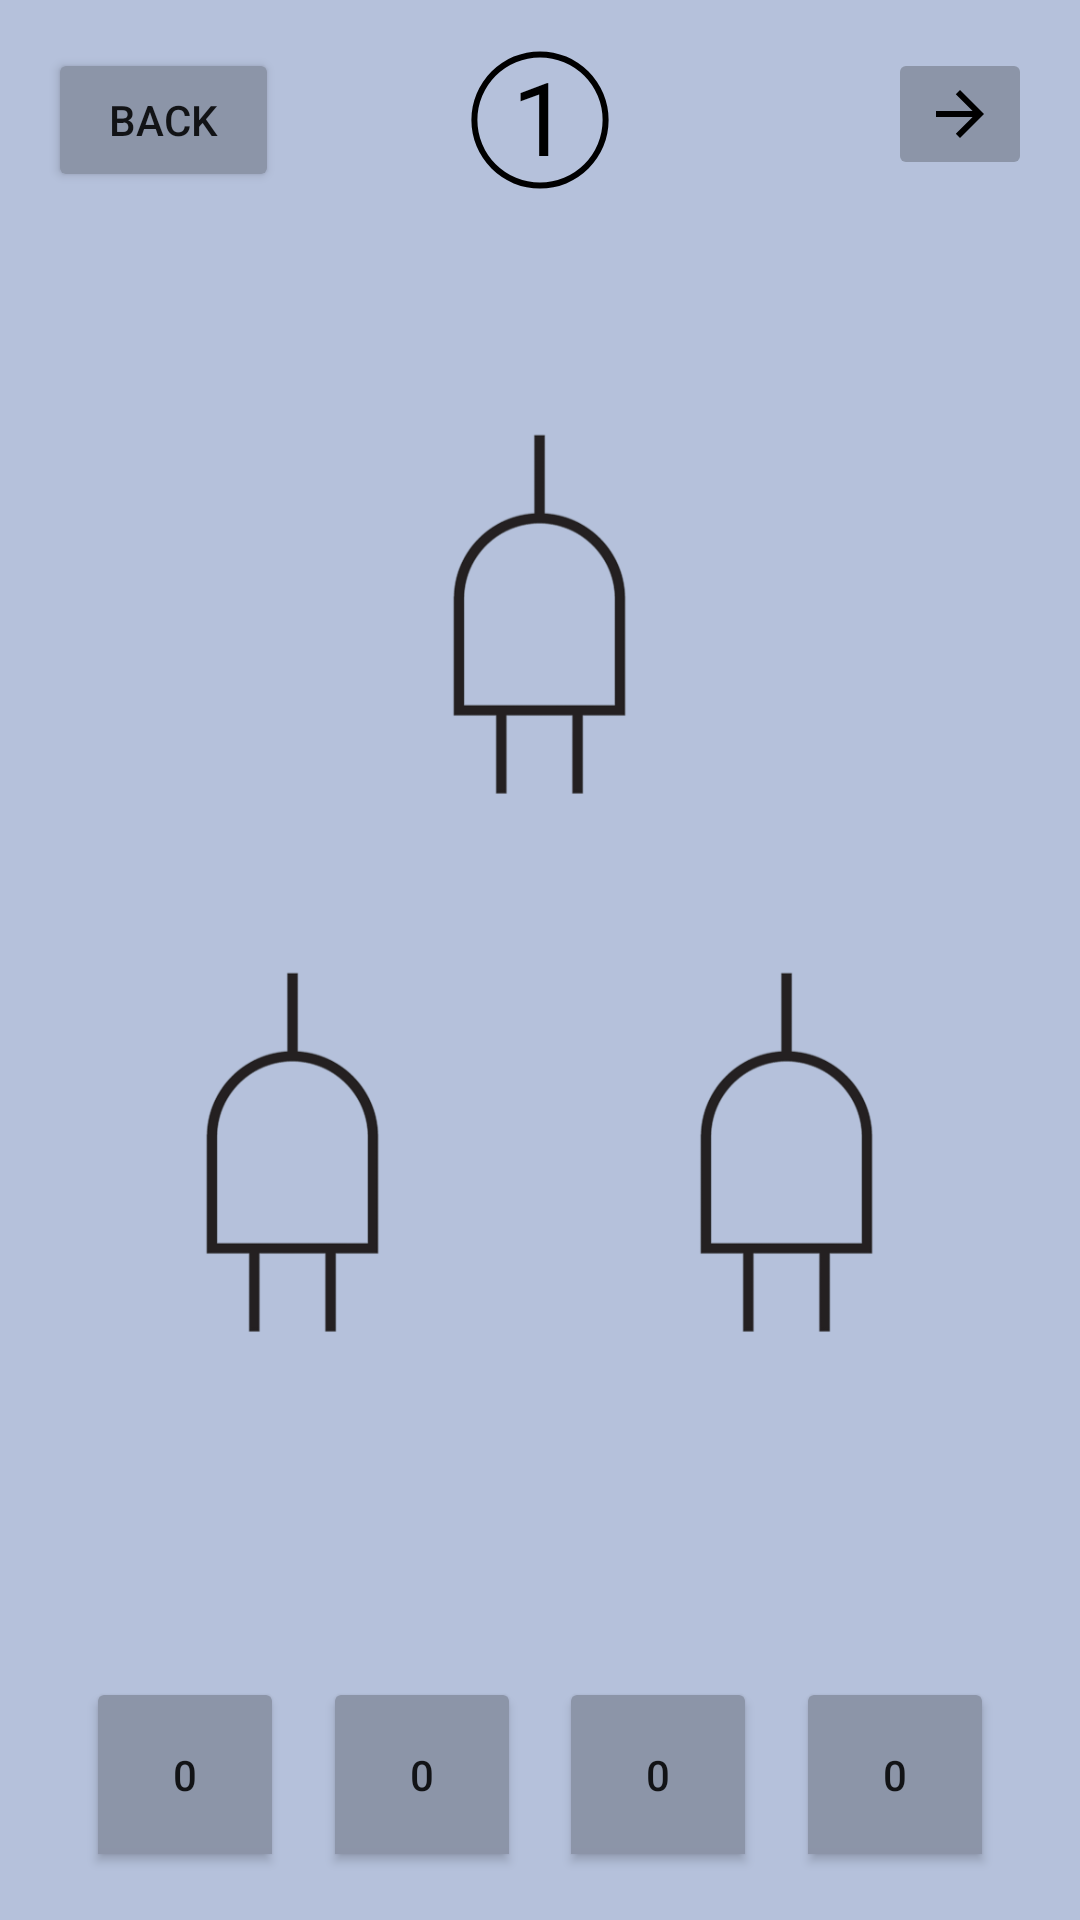

Where to tap for icons on this 1080x1920 app screen, as (x=x, y=y):
and: (x=539, y=614), (x=292, y=1152), (x=786, y=1152)
